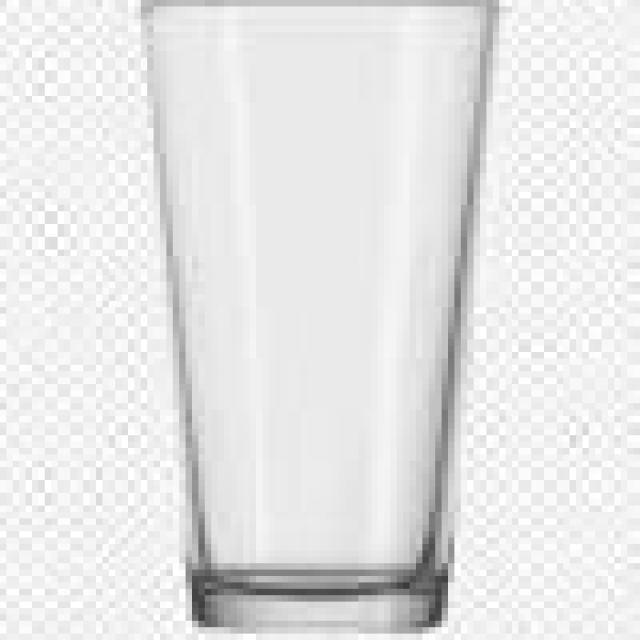Glass: (139, 1, 506, 635)
